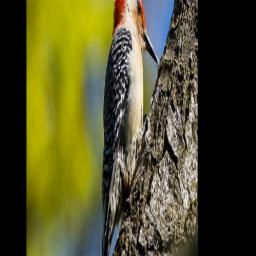Woodpecker: (101, 0, 161, 256)
